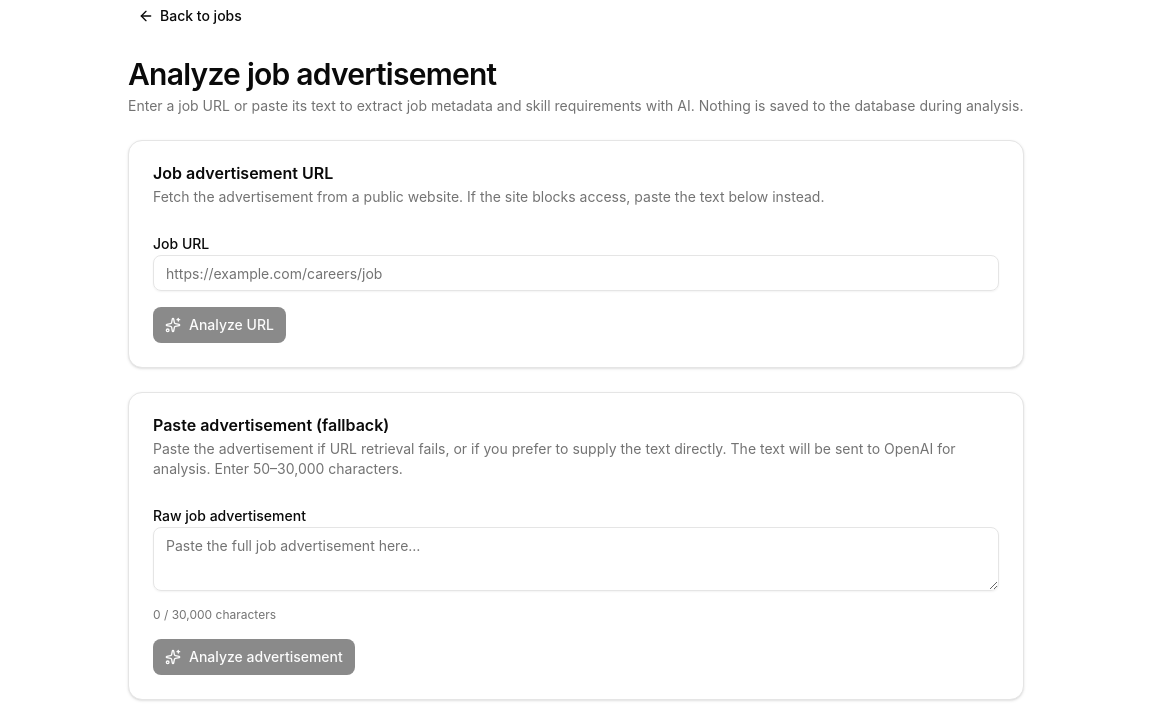
Test: AnalyzeJobView (LinkedIn manual import) › does not mistake similar hostnames for LinkedIn
Type "https://notlinkedin.com/jobs/view/1234567890" into the field with id "job-url". click: (576, 273)
box: [153,255,999,291]
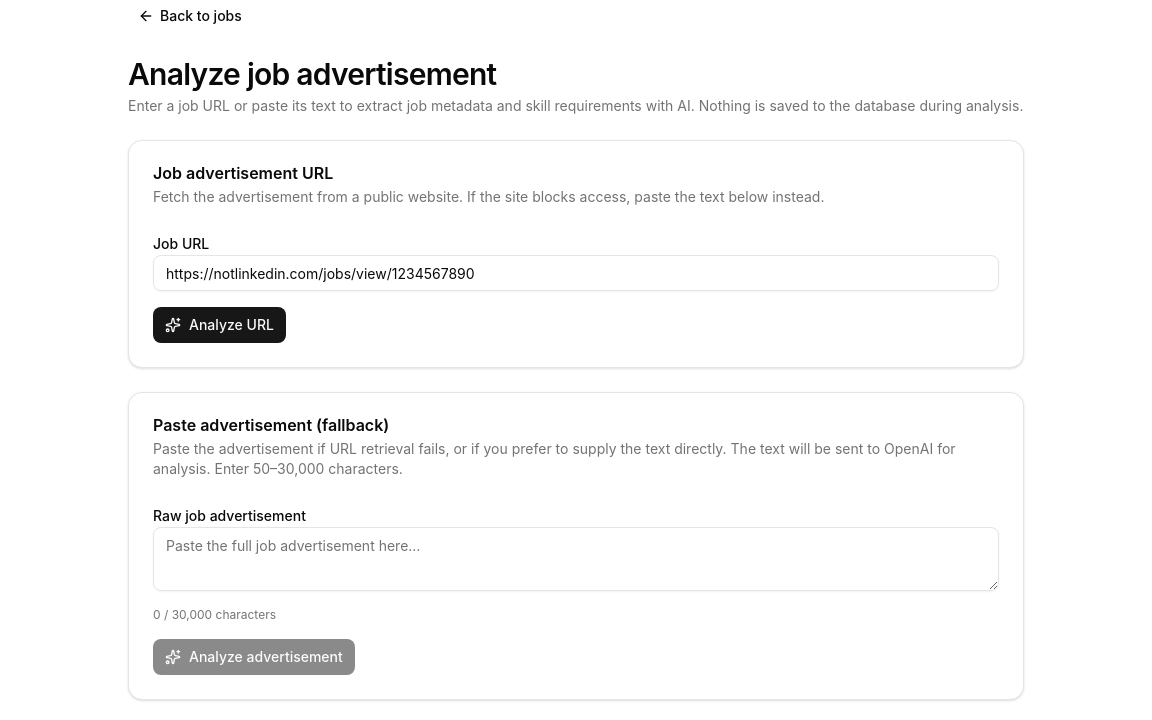
expect the button "Analyze URL" is enabled: met, box [153,307,286,343]
